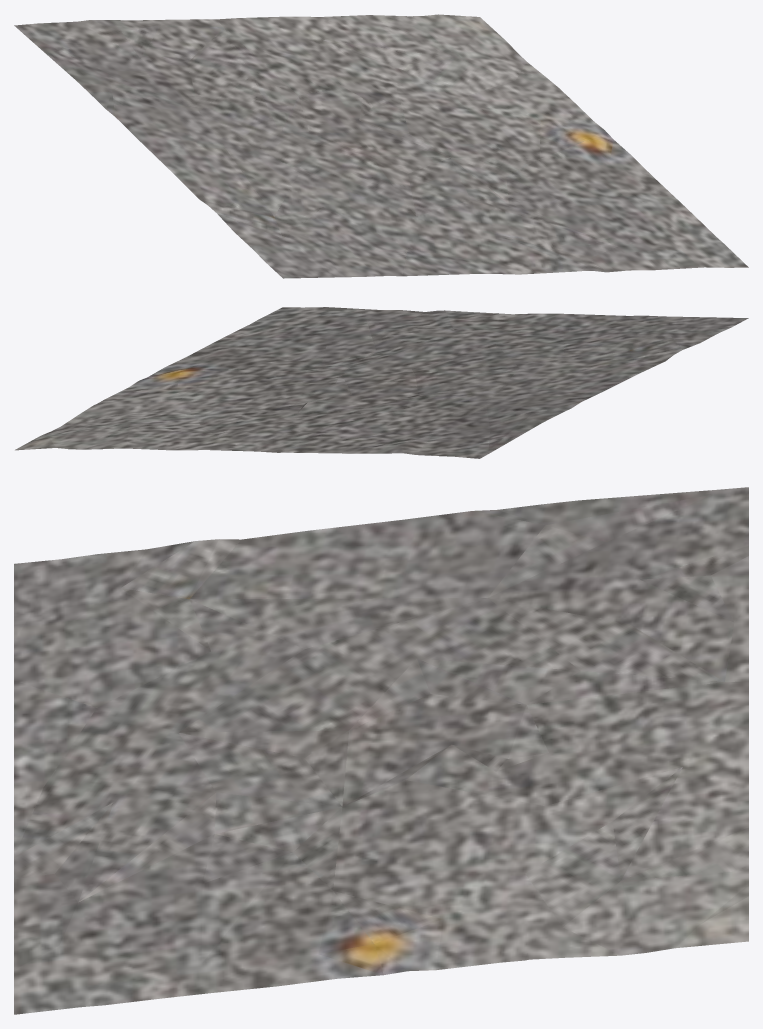
3 views of the same model, one above another, from view 1: azimuth 30°, elevation 25°; view 2: azimuth 150°, elevation 25°; view 3: azimuth 270°, elevation 25° (orthographic). The views are drawn at different scales.
Bounding box in the file's own units: 0.8374 × 0.2729 × 0.8373.
Materials: 3 (3 with a texture image).
